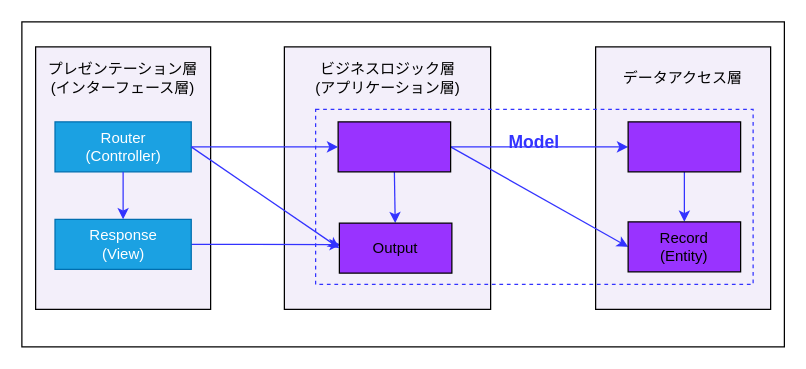
Image size: 806x369. Some labels were removed from this diagram. The shapes that lost their labels are listed below. From the top down, each one's centre as x and y in pixels, then its label:
At pixel 394 146: "Service".
At pixel 684 146: "Gateway (Repository)".
